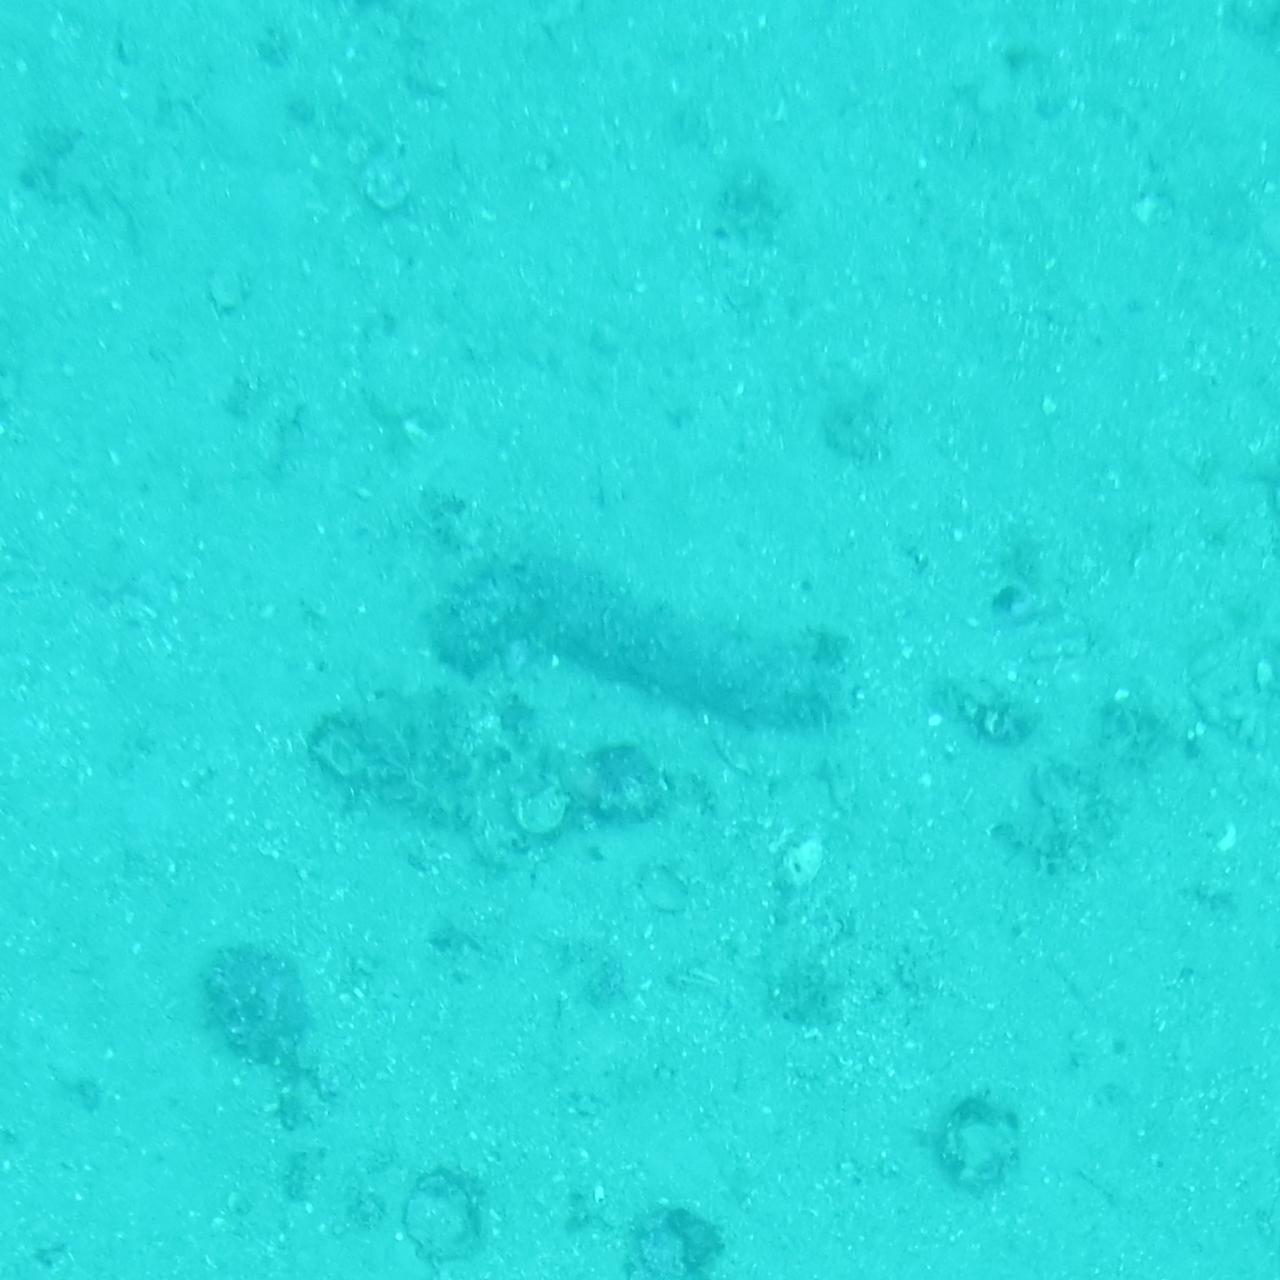Holothuria tubulosa: (418, 546, 862, 734)
